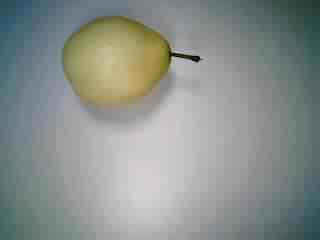pear: (53, 7, 207, 114)
